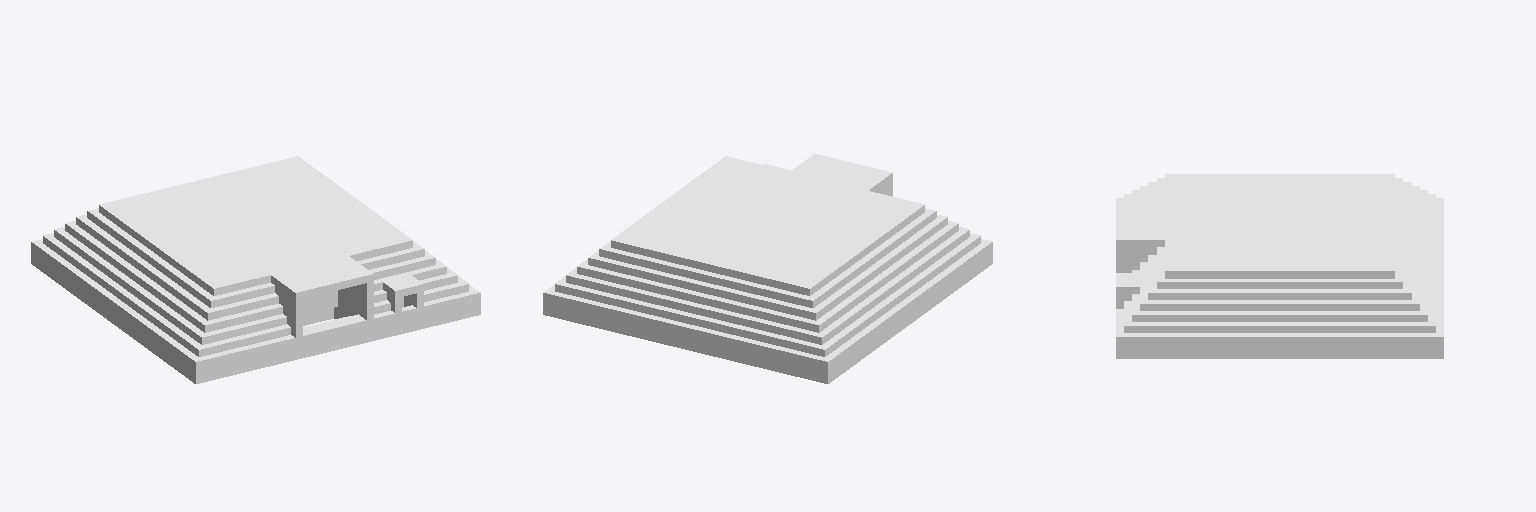
The model's file is caveentrance.obj.
3 views of the same model, side by side, from view 1: azimuth 30°, elevation 25°; view 2: azimuth 150°, elevation 25°; view 3: azimuth 270°, elevation 25° (orthographic).
Visible parts, largest first — view 1: object 1; view 2: object 1; view 3: object 1.
Boxes of the visible parts, <box> form: object 1: <box>31,156,480,383</box>; object 1: <box>543,154,992,383</box>; object 1: <box>1116,174,1443,358</box>.
Size of the model in its own units: 4 by 0.9 by 4.